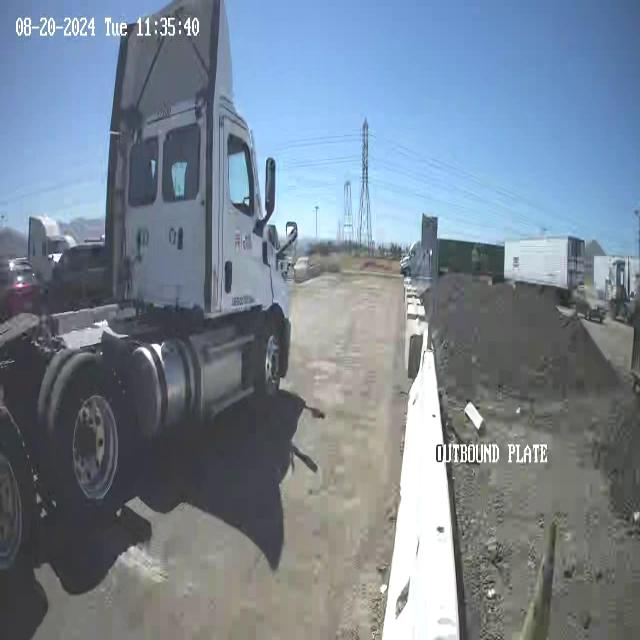BOBTAIL: (1, 1, 299, 566)
